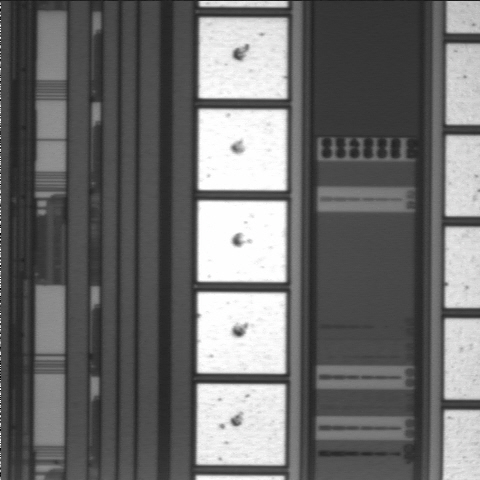pad: (198, 109, 287, 191), (197, 292, 286, 374), (197, 201, 286, 282), (199, 18, 287, 99), (197, 384, 285, 465)
